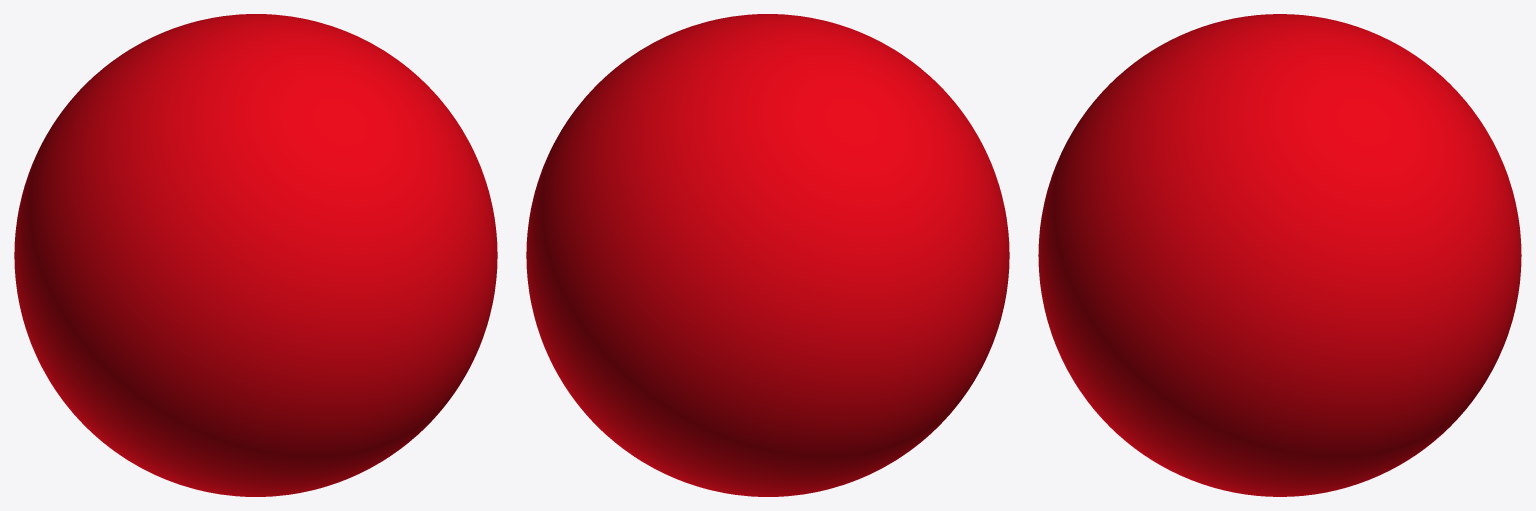
Rendered from Oxygen.gltf.
The picture shows the model from 3 angles, left to right: view 1: azimuth 30°, elevation 25°; view 2: azimuth 150°, elevation 25°; view 3: azimuth 270°, elevation 25°; orthographic projection.
Parts seen in each view (by area): view 1: Cube; view 2: Cube; view 3: Cube.
Boxes of the visible parts, x1=… form: Cube: x1=14, y1=14, x2=497, y2=496; Cube: x1=526, y1=14, x2=1009, y2=496; Cube: x1=1038, y1=14, x2=1521, y2=496.
Size of the model in its own units: 1.71 by 1.71 by 1.71.
